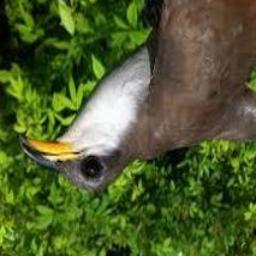Cuckoo: (20, 0, 256, 191)
